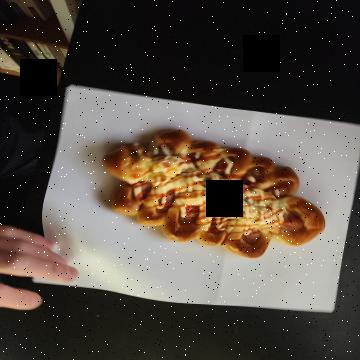pizza_bread: (127, 44, 258, 270)
